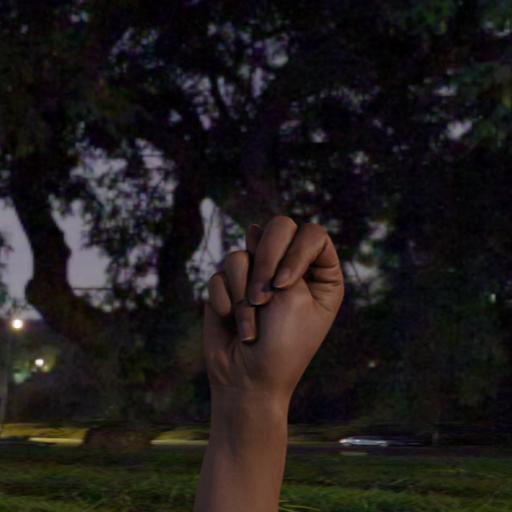N: (187, 210, 351, 418)
